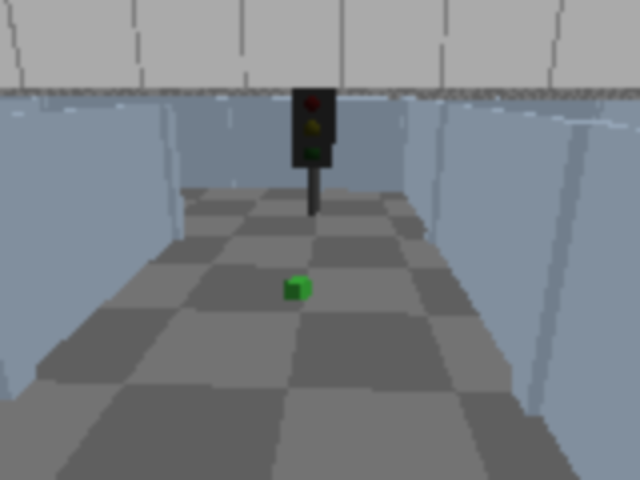puck: (285, 275, 311, 302)
